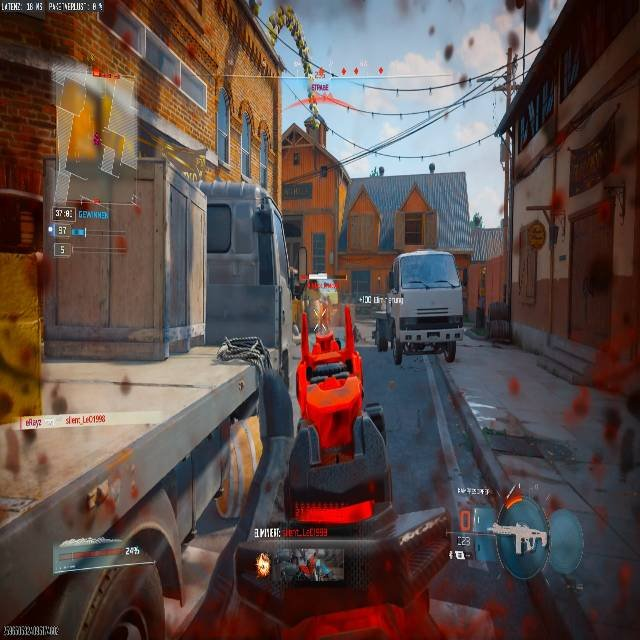player: (371, 312, 391, 354)
